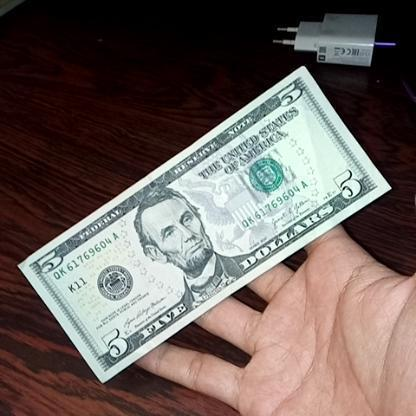five-front: (32, 64, 393, 336)
